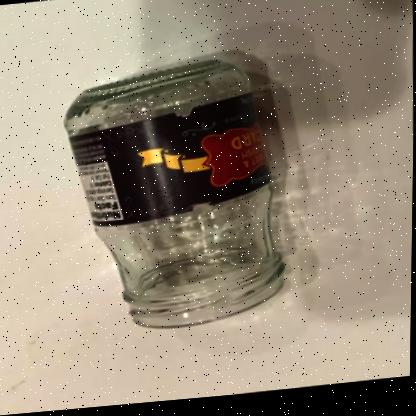Glass: (64, 62, 283, 330)
